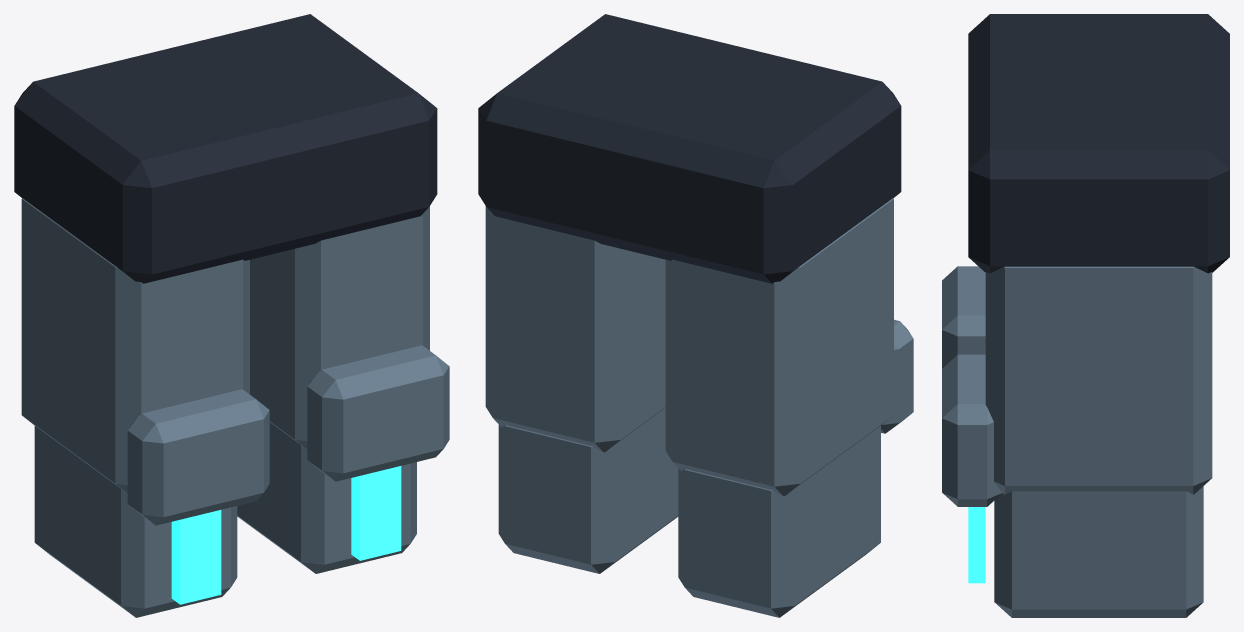
The model's file is SM_NPC_Legs_003_Robot.glb.
3 views of the same model, side by side, from view 1: azimuth 30°, elevation 25°; view 2: azimuth 150°, elevation 25°; view 3: azimuth 270°, elevation 25° (orthographic).
Visible parts, largest first — view 1: SM_NPC_Legs_003_Robot; view 2: SM_NPC_Legs_003_Robot; view 3: SM_NPC_Legs_003_Robot.
Boxes of the visible parts, box(x1,y1,x2,y2) form: SM_NPC_Legs_003_Robot: box(14, 14, 449, 617); SM_NPC_Legs_003_Robot: box(478, 14, 913, 617); SM_NPC_Legs_003_Robot: box(942, 14, 1229, 617).
Size of the model in its own units: 0.42 by 0.595 by 0.33.
